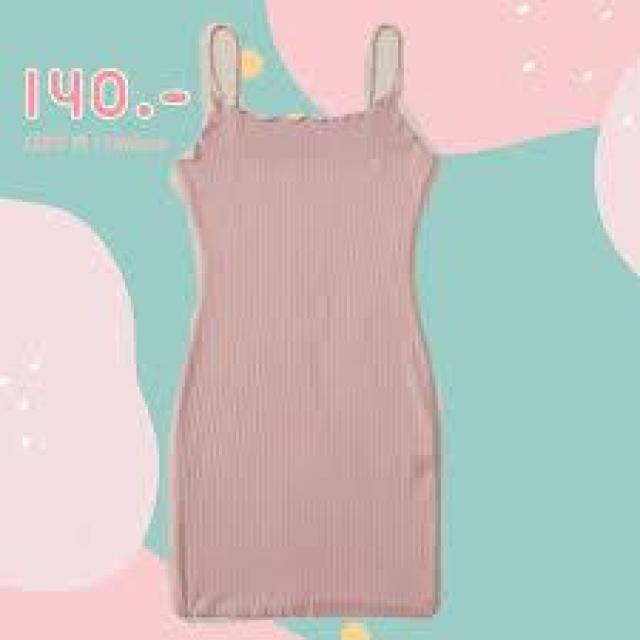dress: (172, 27, 442, 624)
